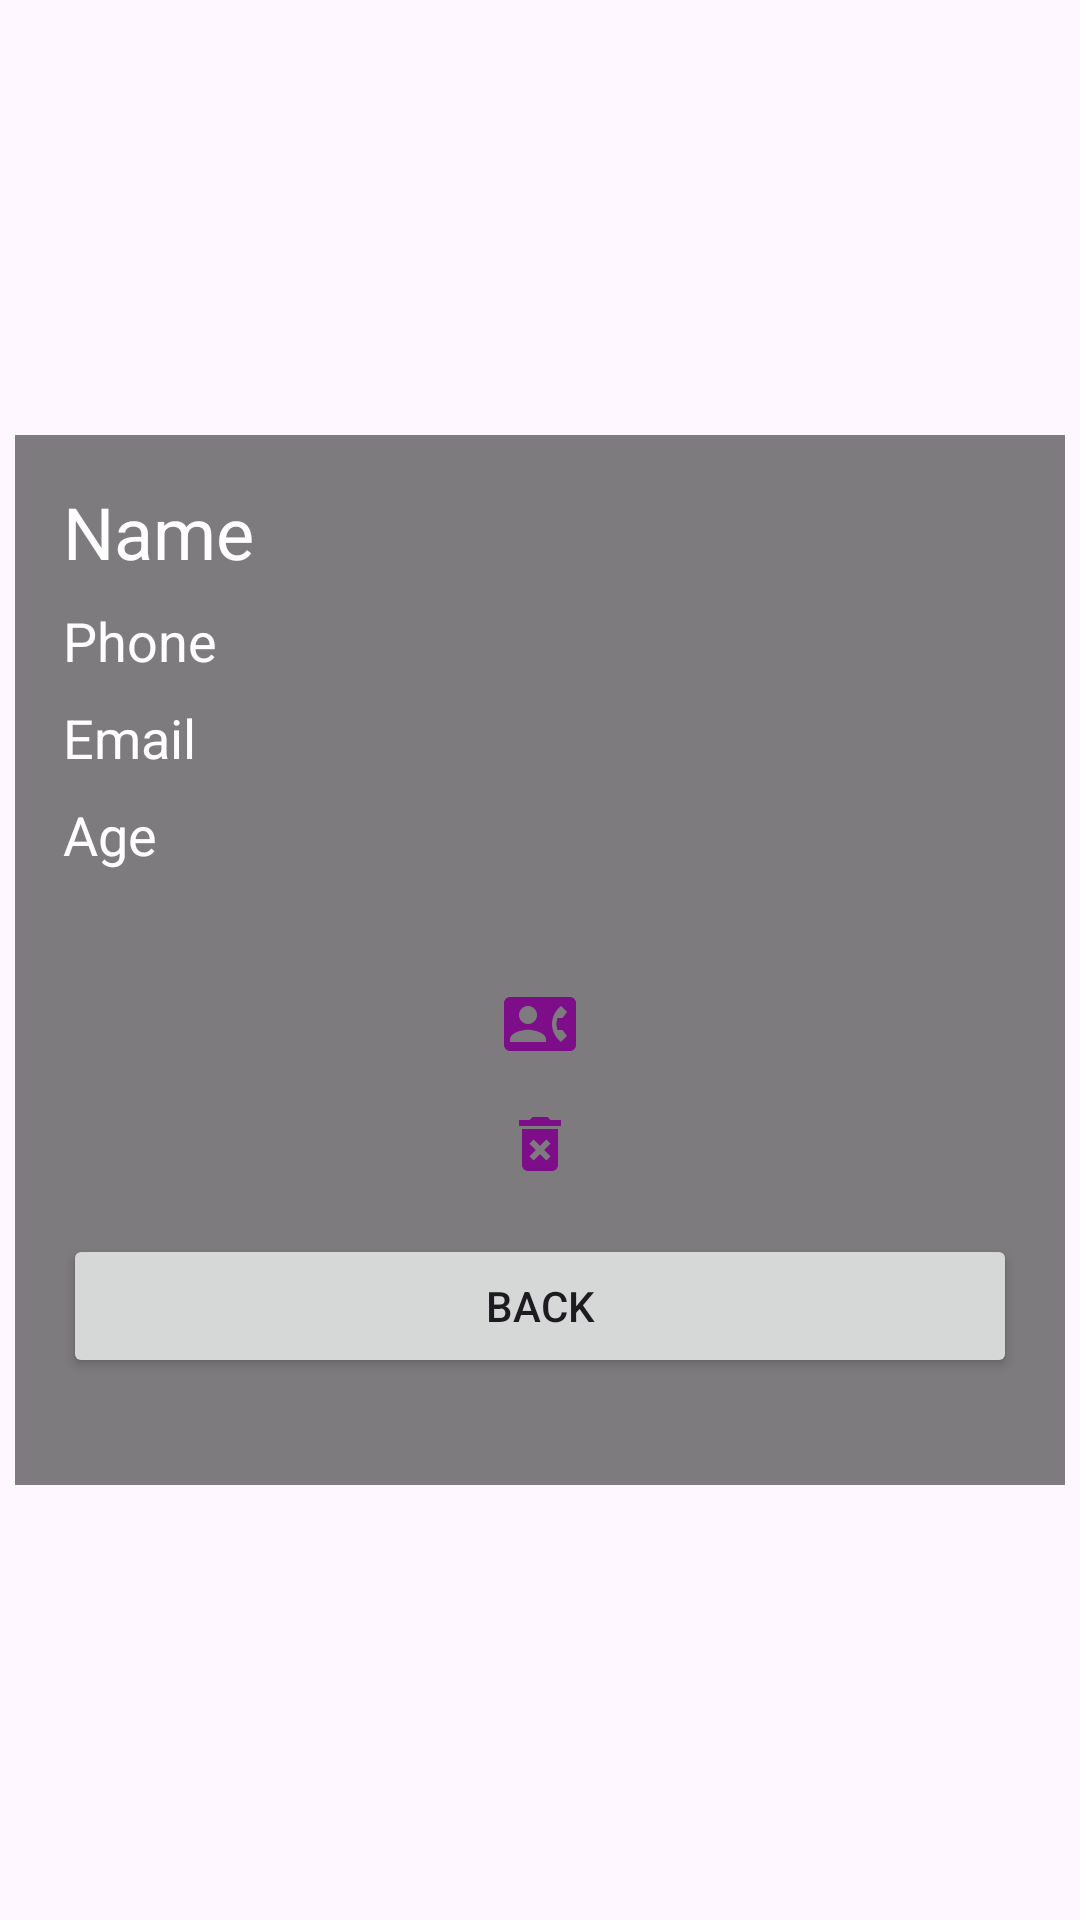

Screen size 1080 × 1920. Icon name, then its box in pixels as (x1, y1, x2, y2):
contact phone: (504, 997, 576, 1051)
delete forever: (519, 1117, 561, 1171)
